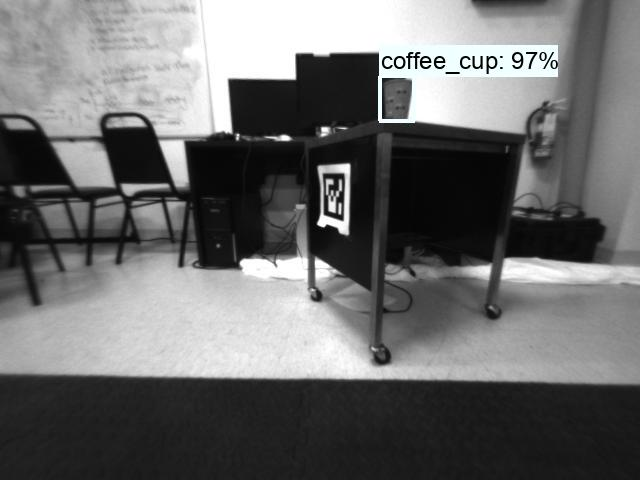coffee_cup: (381, 76, 412, 120)
